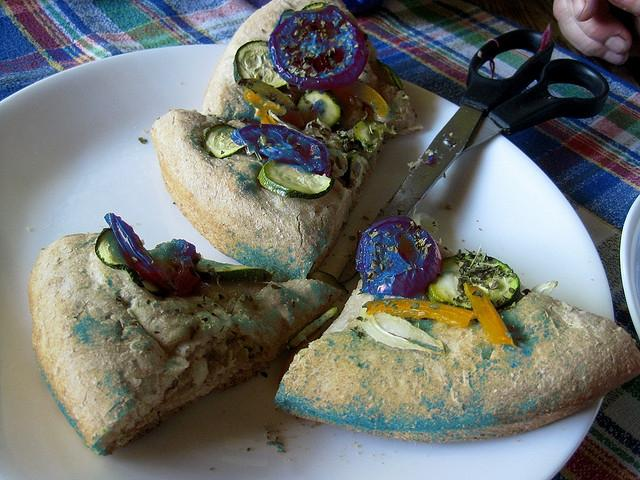onion: (268, 5, 369, 91), (104, 212, 176, 298)
